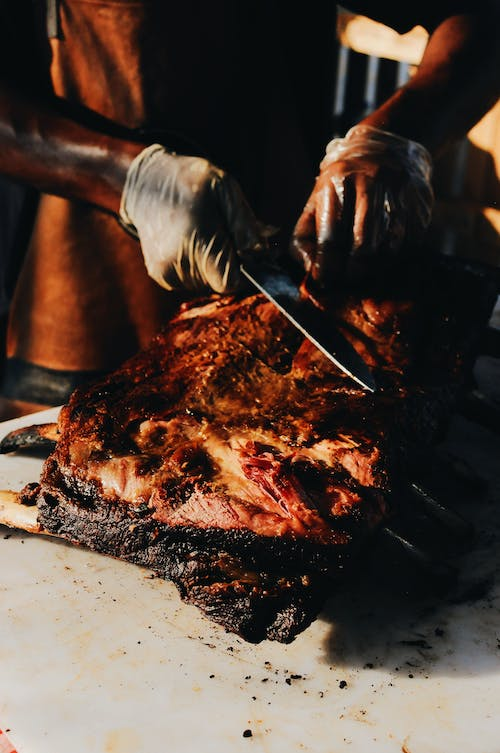knife: (237, 246, 381, 396)
